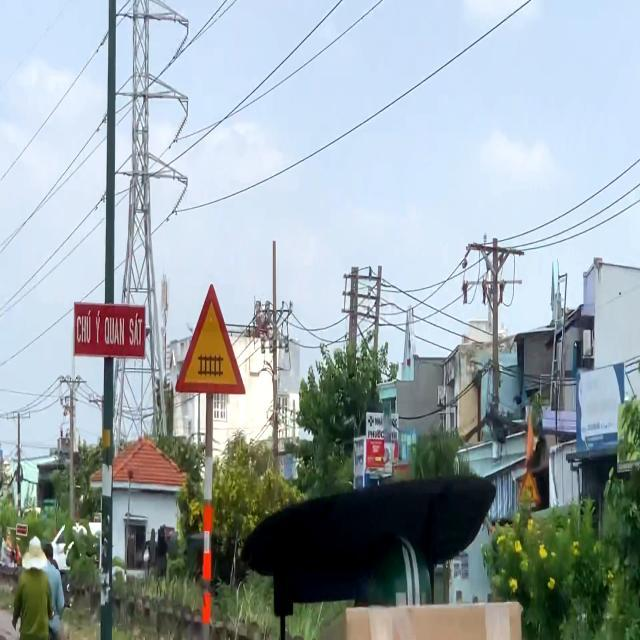W-210: (174, 282, 246, 396)
